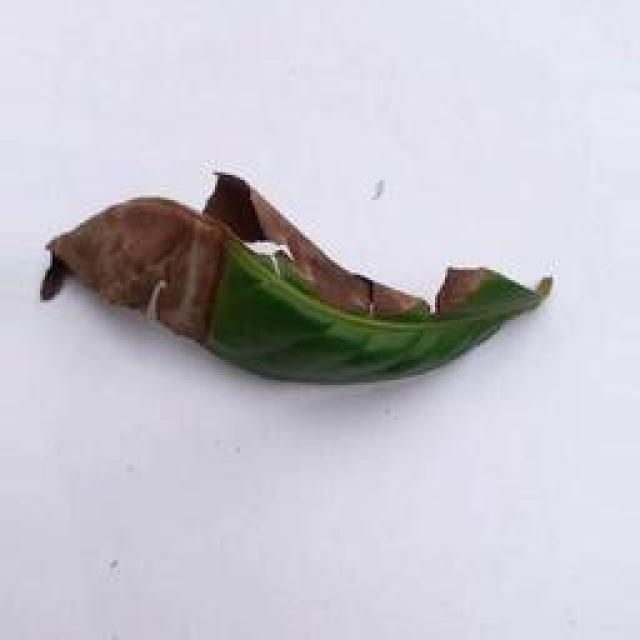Brown Blight: (29, 166, 570, 390)
